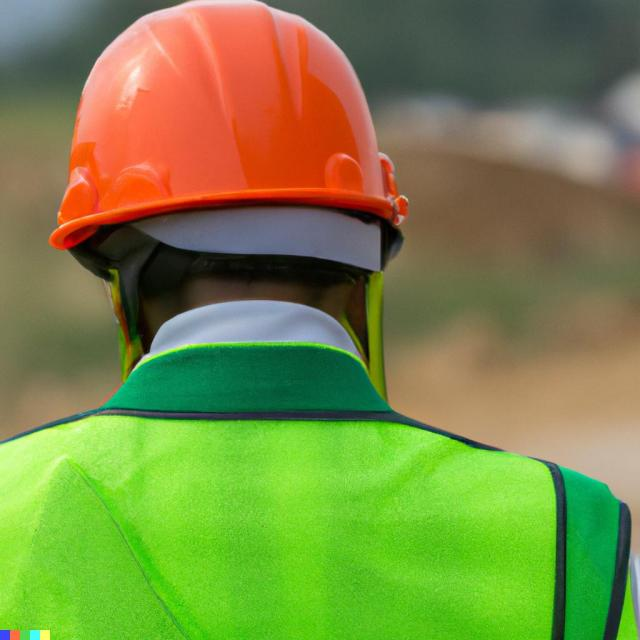Reflective-Jacket: (4, 353, 640, 636)
Safety-Helmet: (47, 4, 414, 249)
